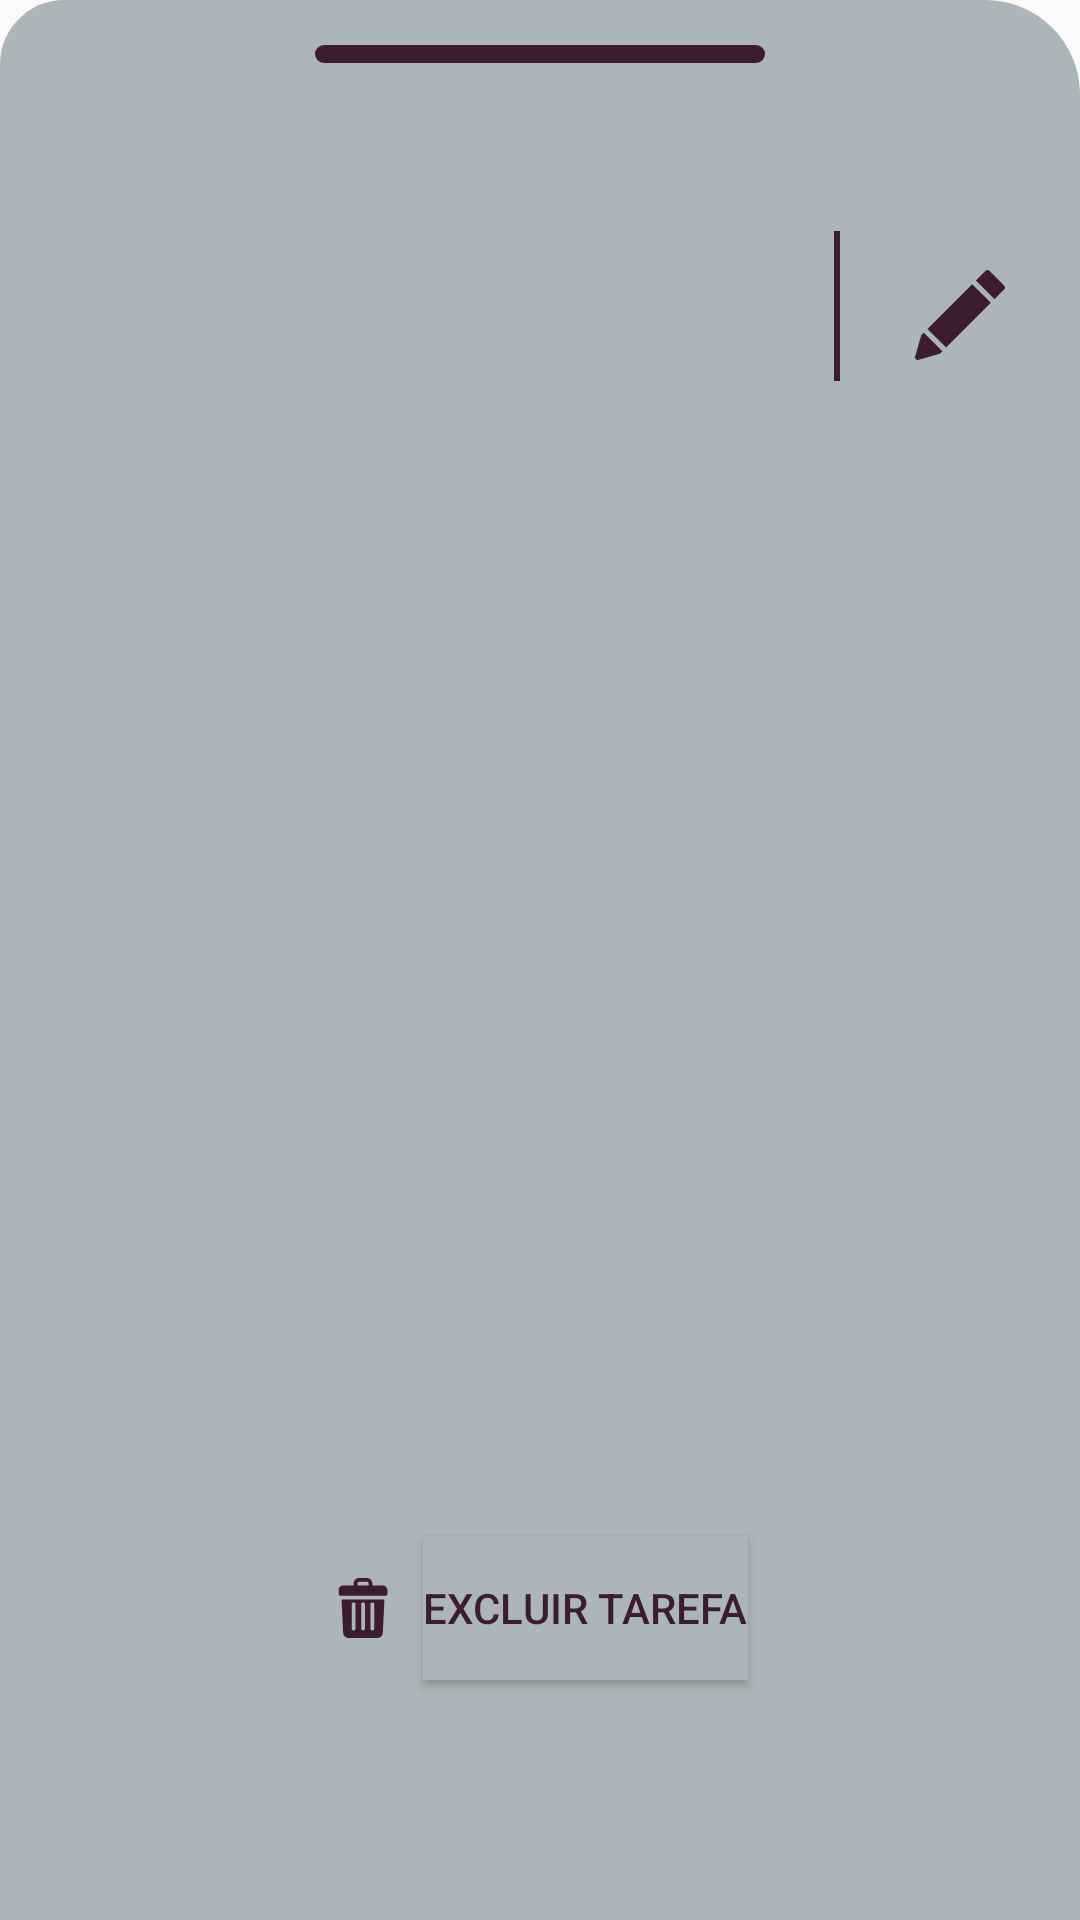

Icons on this 1080 × 1920 Android screen, each with the point to tap as (x=x, y=y):
ferramenta lapis: (x=960, y=315)
trash: (x=363, y=1608)
